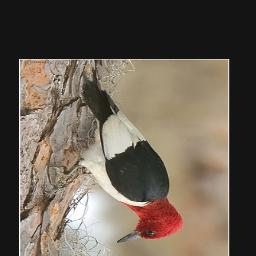Woodpecker: (46, 70, 186, 246)
